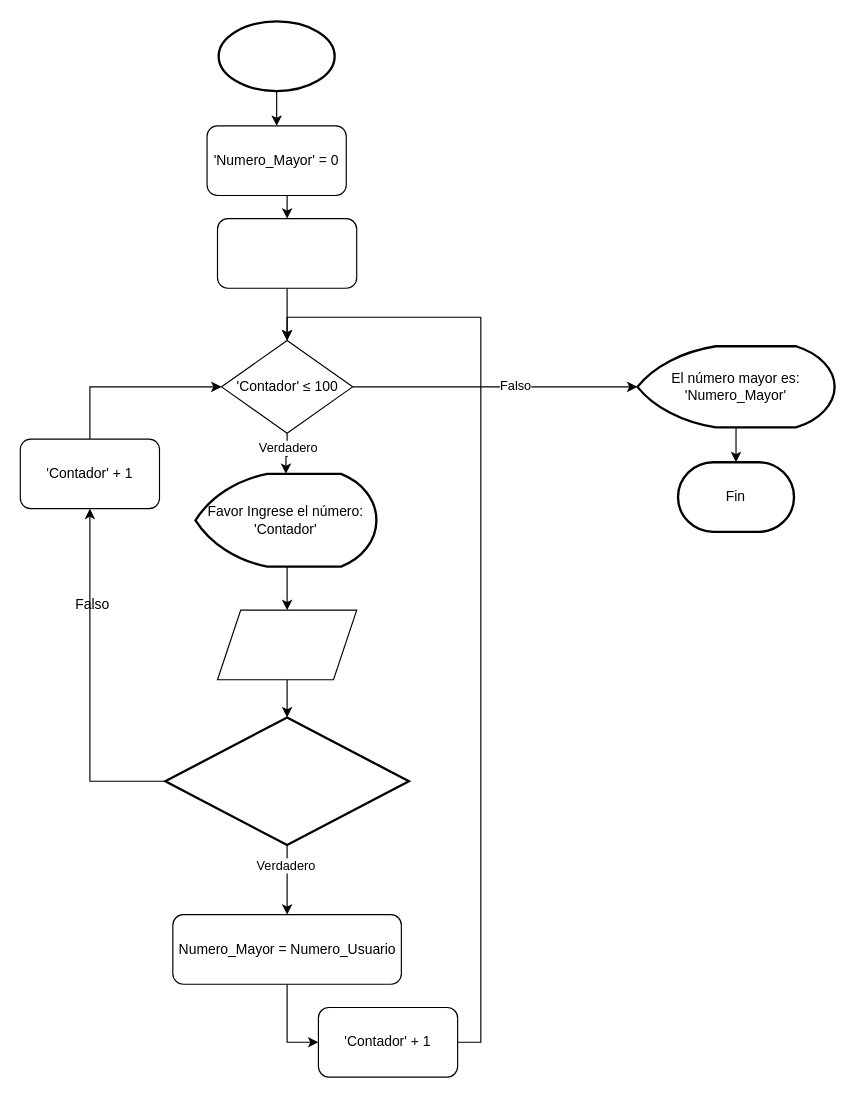
Some shapes in this 856 by 1097 pixel diagram are drawn without their labels. The centre of each missing label's shape, as x and y in pixels:
'Contador' = 1: point 286,252
Inicio: point 276,56
Numero_Mayor < Numero_Usuario: point 286,781
Numero_Usuario: point 286,644
